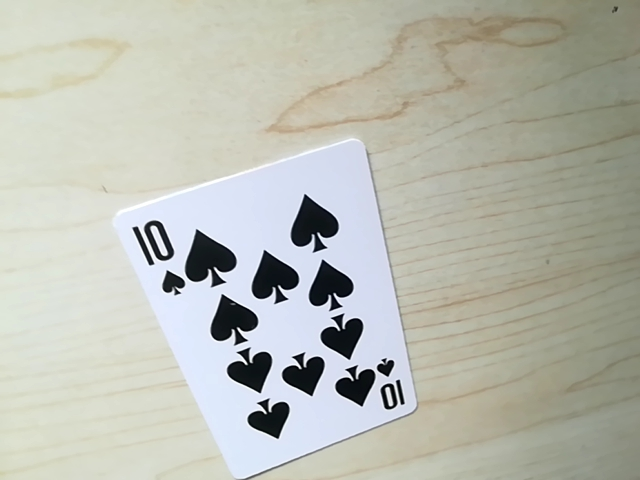ht 10: (131, 208, 183, 293), (365, 367, 406, 415)
